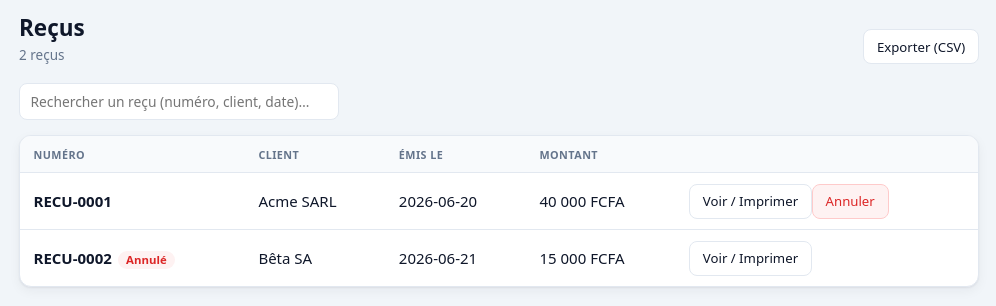
Test: RecusPage › filtre la liste sur la recherche
Expected: the text "RECU-0001" is shown, [20,173,245,230]
Type "Bêta" into the search field at x=179, y=102, box [19,83,339,120]
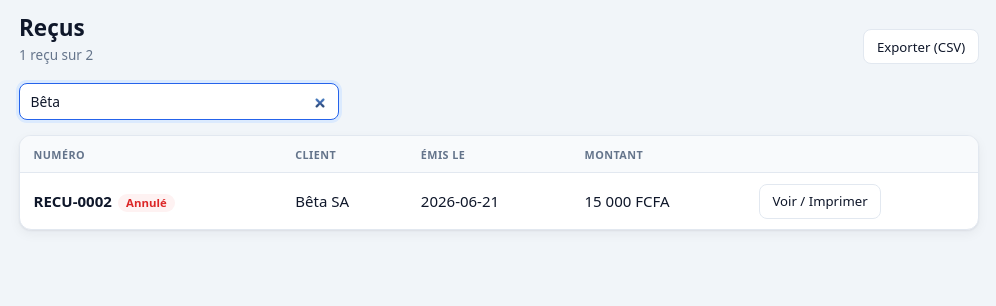
Expected: the text "RECU-0002" is shown, [34,191,112,211]
Now the text "RECU-0001" is gone
